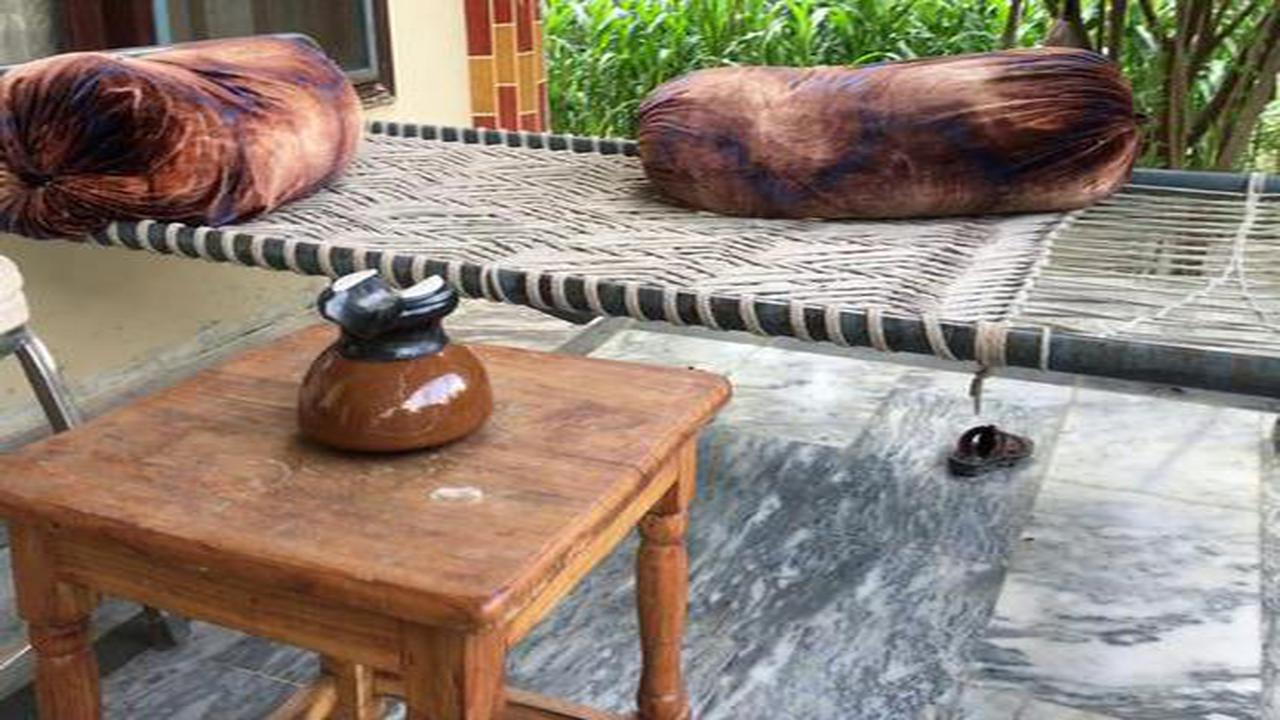insulator_pin: (281, 253, 505, 466)
